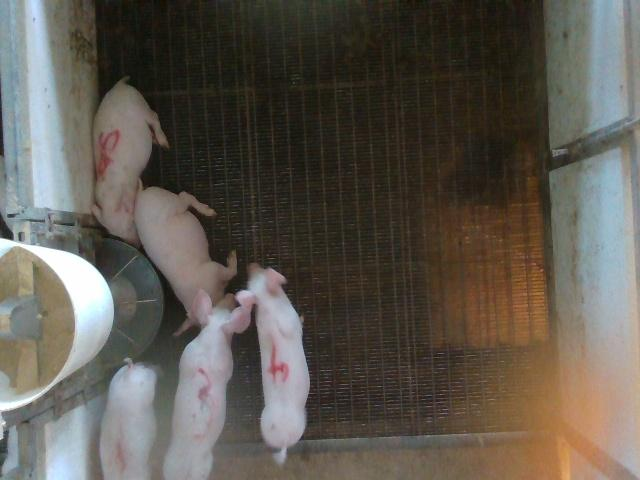pig-1: (101, 359, 158, 479)
pig-3: (164, 294, 250, 479)
pig-4: (236, 264, 310, 464)
pig-5: (92, 76, 169, 246)
